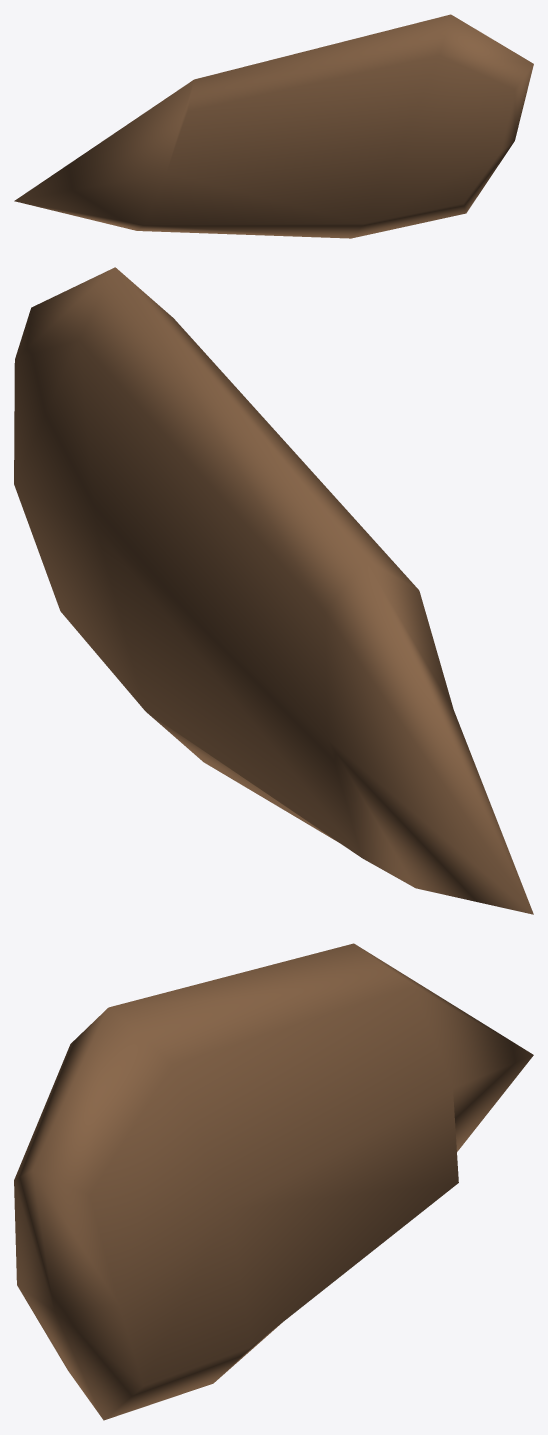
File: Right wing.fbx
3 views of the same model, one above another, from view 1: azimuth 30°, elevation 25°; view 2: azimuth 150°, elevation 25°; view 3: azimuth 270°, elevation 25° (orthographic). The views are drawn at different scales.
Parts seen in each view (by area): view 1: polySurface61; view 2: polySurface61; view 3: polySurface61.
Part boxes in pixels (box(x1,y1,x2,y2)): polySurface61: box(14, 14, 533, 238); polySurface61: box(14, 267, 533, 914); polySurface61: box(14, 943, 533, 1420).
Size of the model in its own units: 1.41 by 0.7728 by 0.8147.
